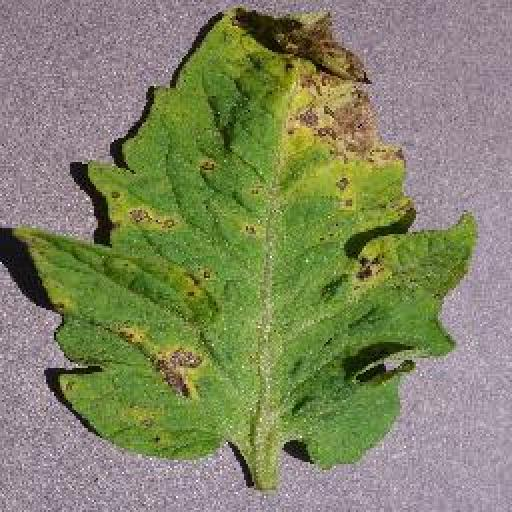Septoria: (21, 7, 476, 465)
